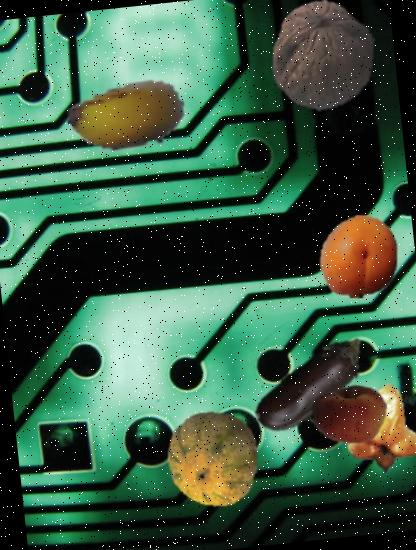Apricot: (313, 211, 404, 302)
Banana: (61, 50, 192, 182)
Cantaloupe: (160, 406, 266, 512)
Carambula: (329, 377, 416, 480)
Eggplant: (237, 312, 386, 460)
Nectarine: (306, 373, 392, 459)
Walnut: (261, 0, 385, 117)
